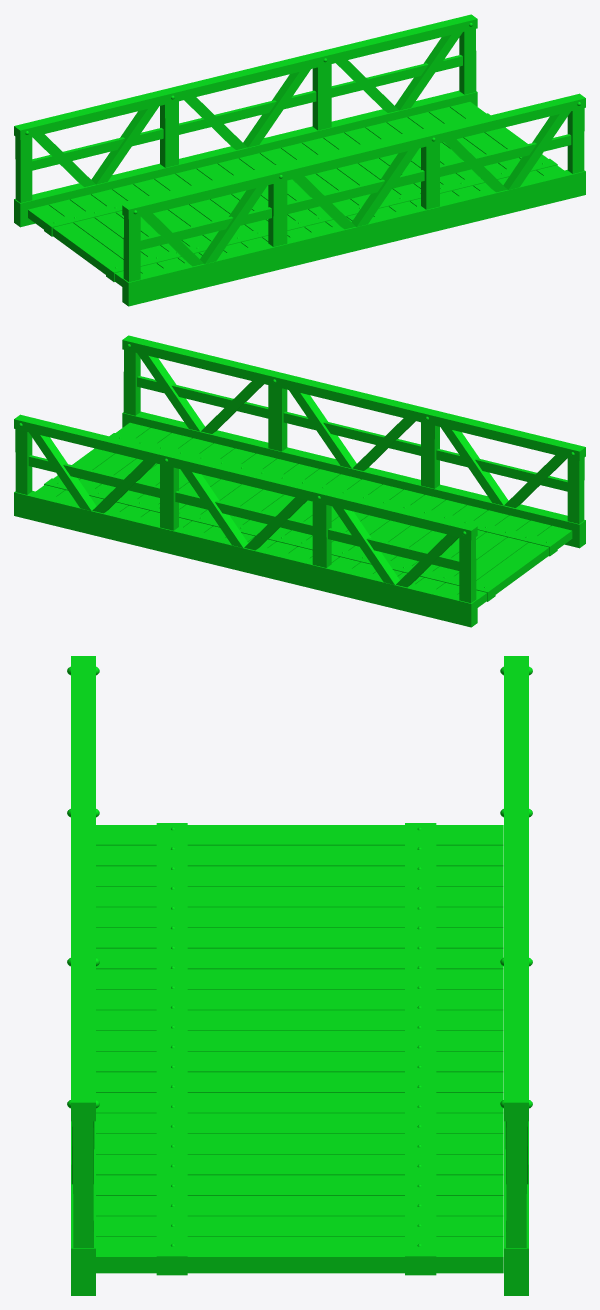
The model's file is Bridge.fbx.
3 views of the same model, one above another, from view 1: azimuth 30°, elevation 25°; view 2: azimuth 150°, elevation 25°; view 3: azimuth 270°, elevation 25° (orthographic). The views are drawn at different scales.
Parts seen in each view (by area): view 1: Bridge.001; view 2: Bridge.001; view 3: Bridge.001.
Part boxes in pixels (x1,y1,x2,y2): Bridge.001: (14,14,585,306); Bridge.001: (14,335,585,627); Bridge.001: (67,656,532,1295).
Bounding box in the file's own units: 991 × 200 × 437.
